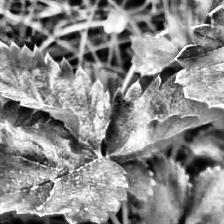Powdery Mildew Leaf: (103, 71, 224, 159)
